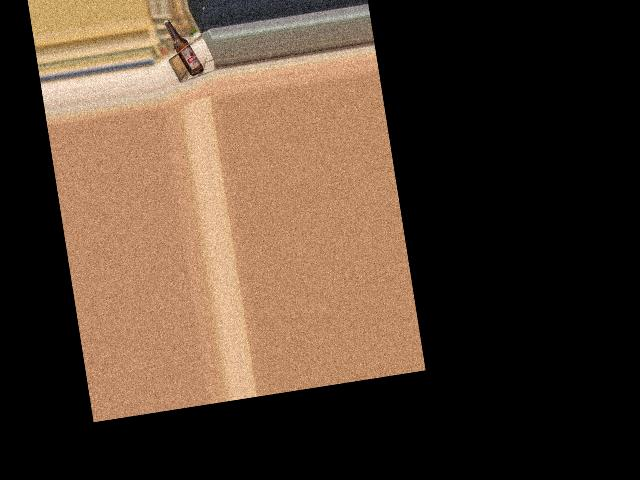beer: (163, 15, 205, 79)
